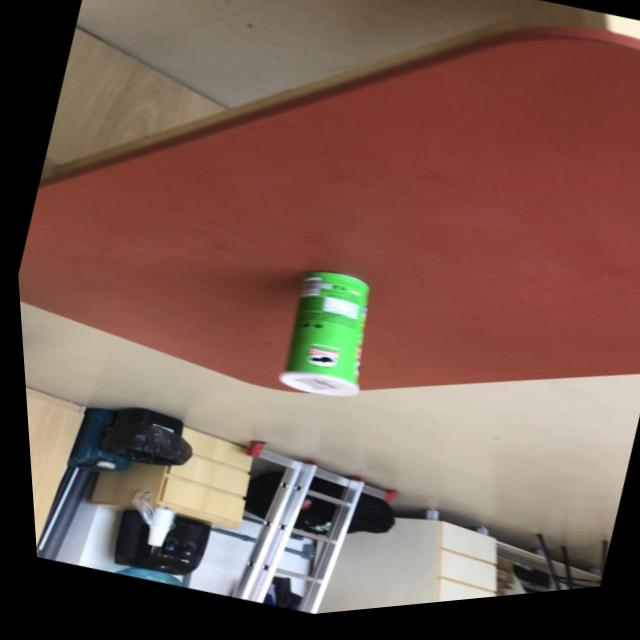a pringles: (263, 265, 388, 417)
